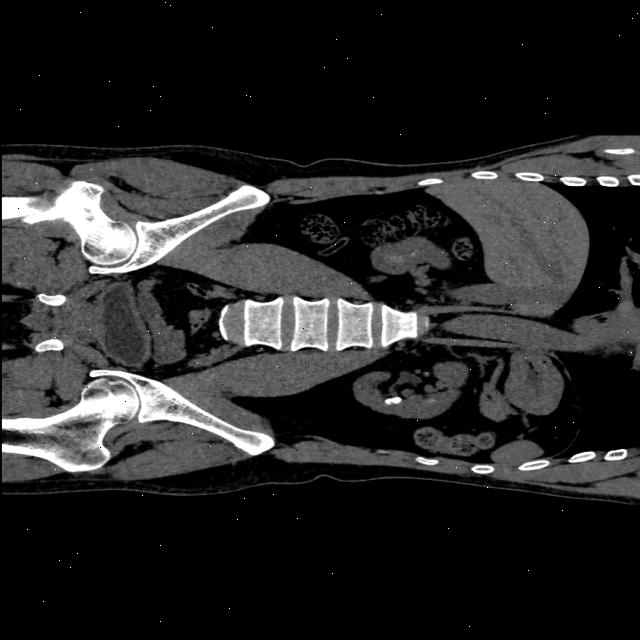kidneystone: (384, 398, 401, 404)
